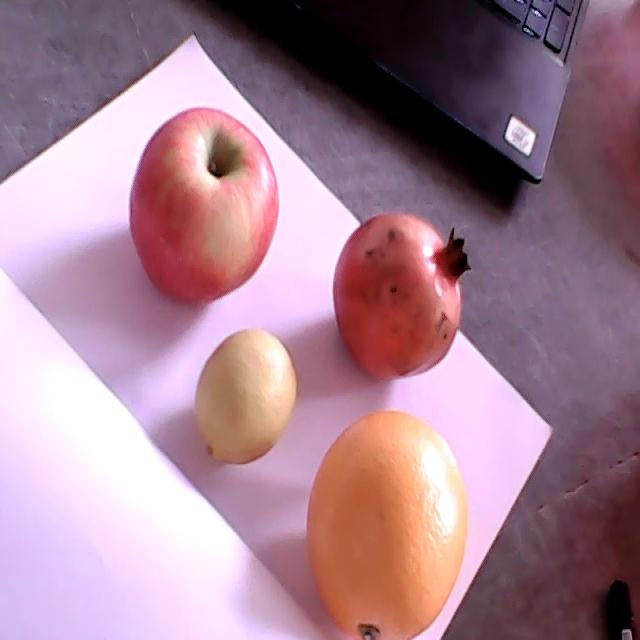apple: (129, 109, 279, 309)
lemon: (195, 325, 297, 464)
orange: (307, 410, 469, 639)
pomegranate: (334, 209, 474, 381)
